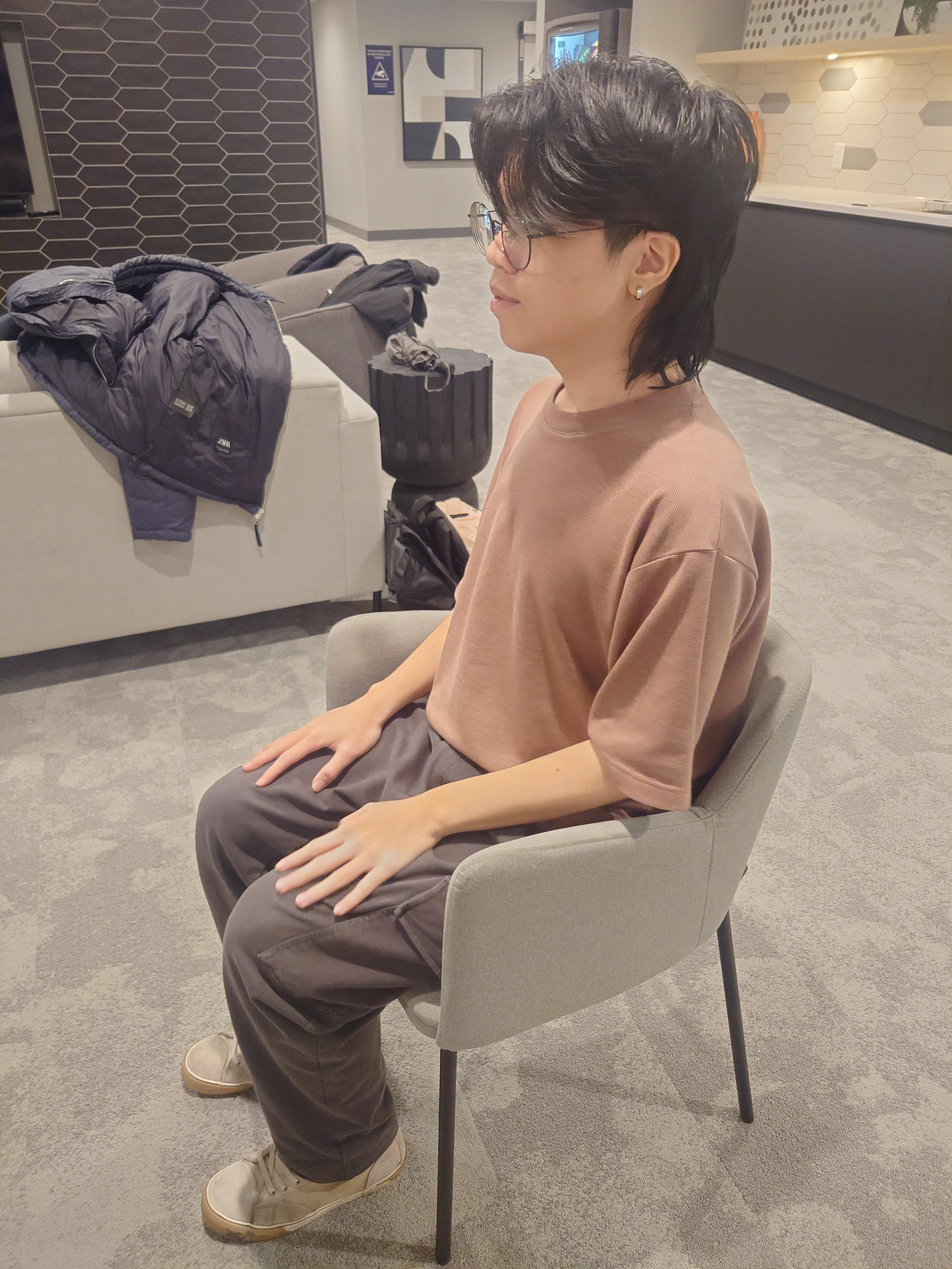GoodPosture: (178, 52, 772, 1243)
